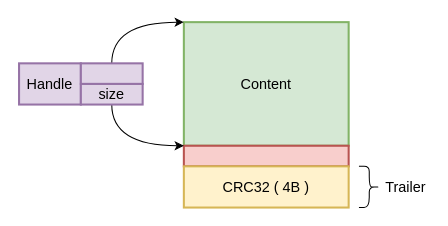
The diagram is 448 pixels wide and 226 high, and some of its shapes have lost their labels. Here are the shapes that lost their labels. From the top down, the centre of each, then its label:
At (x=111, y=73): "offset".
At (x=265, y=155): "Compression Type ( 1B )".
